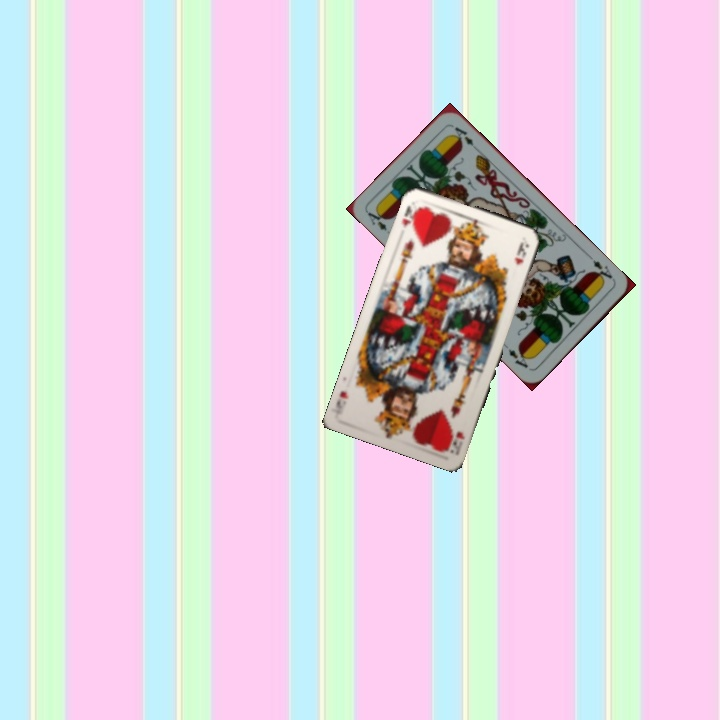EA: (585, 251, 616, 285), (363, 205, 389, 234)
HK: (444, 427, 468, 457), (398, 201, 422, 230)
